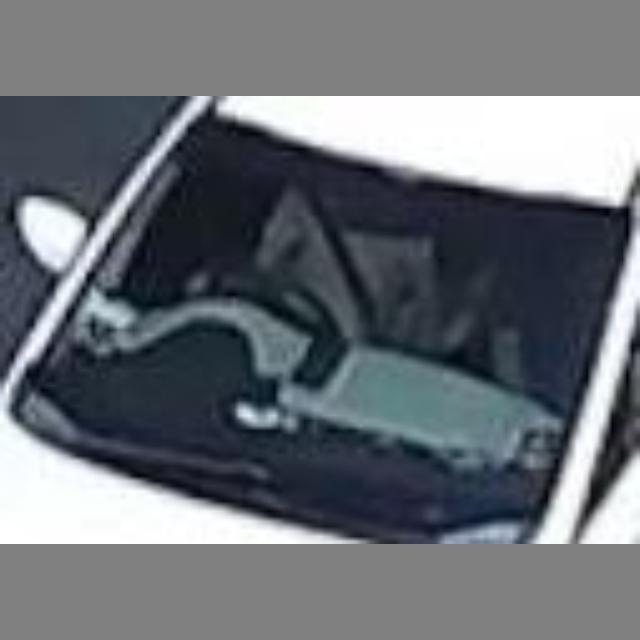pakai: (222, 162, 449, 403)
